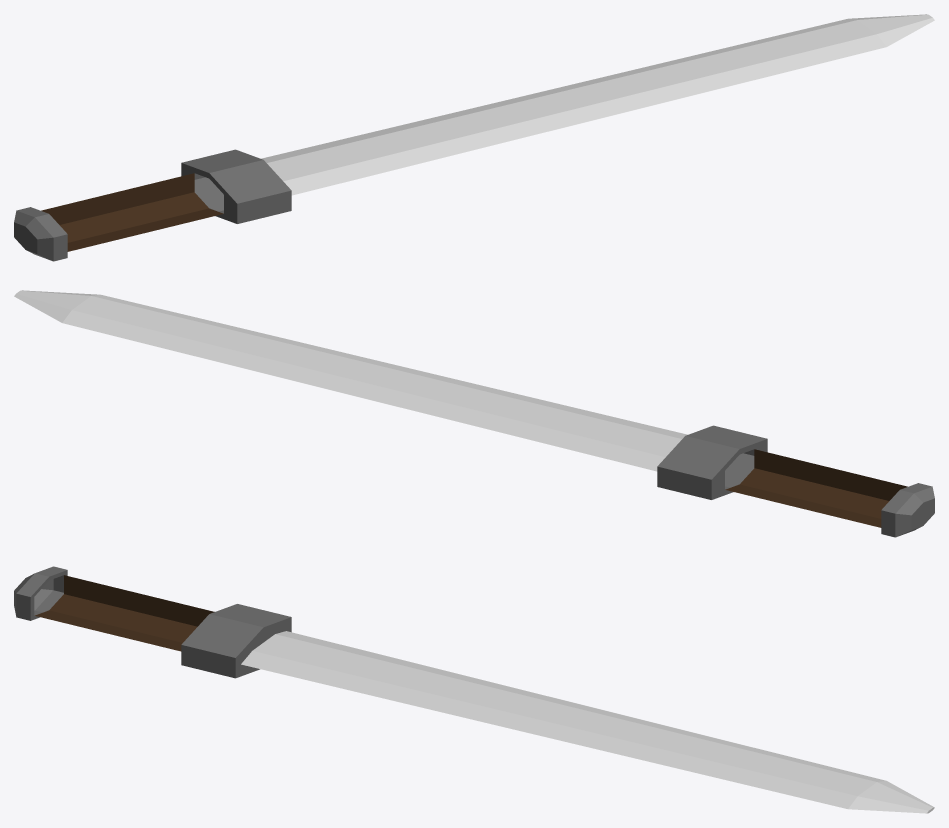
File: Sword.glb
3 renders of one model, top to bottom at view 1: azimuth 30°, elevation 25°; view 2: azimuth 150°, elevation 25°; view 3: azimuth 330°, elevation 25°, orthographic.
Parts seen in each view (by area): view 1: Sword; view 2: Sword; view 3: Sword.
Part boxes in pixels (box(x1,y1,x2,y2)): Sword: box(14, 14, 934, 261); Sword: box(14, 290, 934, 537); Sword: box(14, 566, 934, 813).
Size of the model in its own units: 1.26 by 0.0542 by 0.1348.
